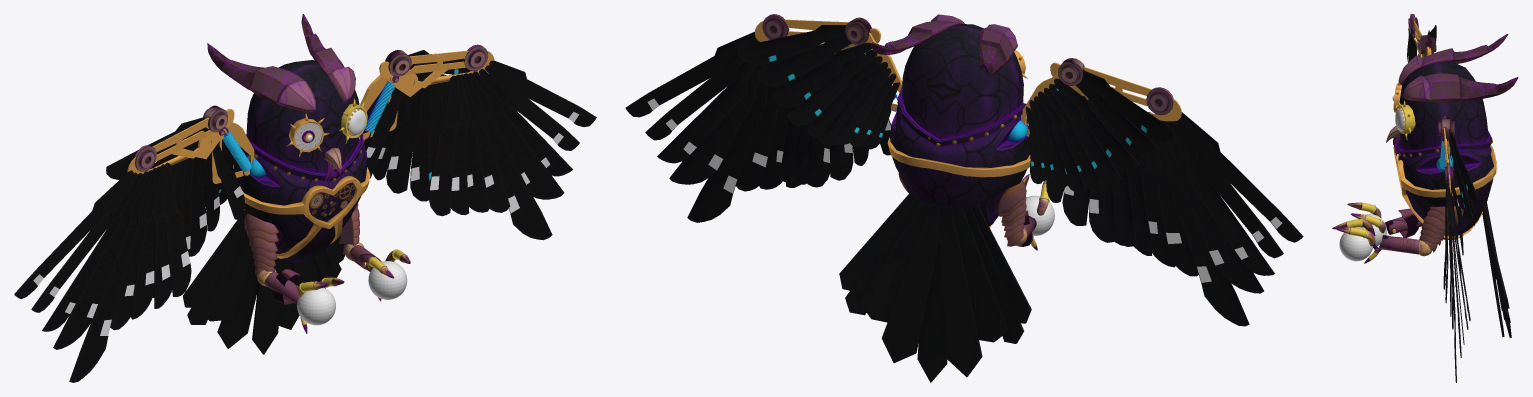
File: owl-transformed.glb
3 views of the same model, side by side, from view 1: azimuth 30°, elevation 25°; view 2: azimuth 150°, elevation 25°; view 3: azimuth 270°, elevation 25° (orthographic). The views are drawn at different scales.
Parts seen in each view (by area): view 1: Owl, GoldShiz, WingSpots, FootOrb1, FootOrb2; view 2: Owl, GoldShiz, WingSpots, FootOrb1; view 3: Owl, GoldShiz, FootOrb2, FootOrb1, LensRight.
Part boxes in pixels (x1,y1,x2,y2): Owl: (14, 14, 596, 382); GoldShiz: (127, 50, 494, 258); WingSpots: (33, 111, 578, 335); FootOrb1: (297, 287, 335, 325); FootOrb2: (368, 261, 407, 299); Owl: (625, 14, 1303, 382); GoldShiz: (755, 19, 1181, 227); WingSpots: (647, 98, 1282, 282); FootOrb1: (1025, 195, 1054, 235); Owl: (1332, 14, 1518, 382); GoldShiz: (1393, 21, 1496, 238); FootOrb2: (1339, 227, 1372, 261); FootOrb1: (1358, 214, 1386, 246); LensRight: (1395, 108, 1405, 130).
Bounding box in the file's own units: 57.78 × 28.84 × 17.35.
Materials: 2 (2 with a texture image).
